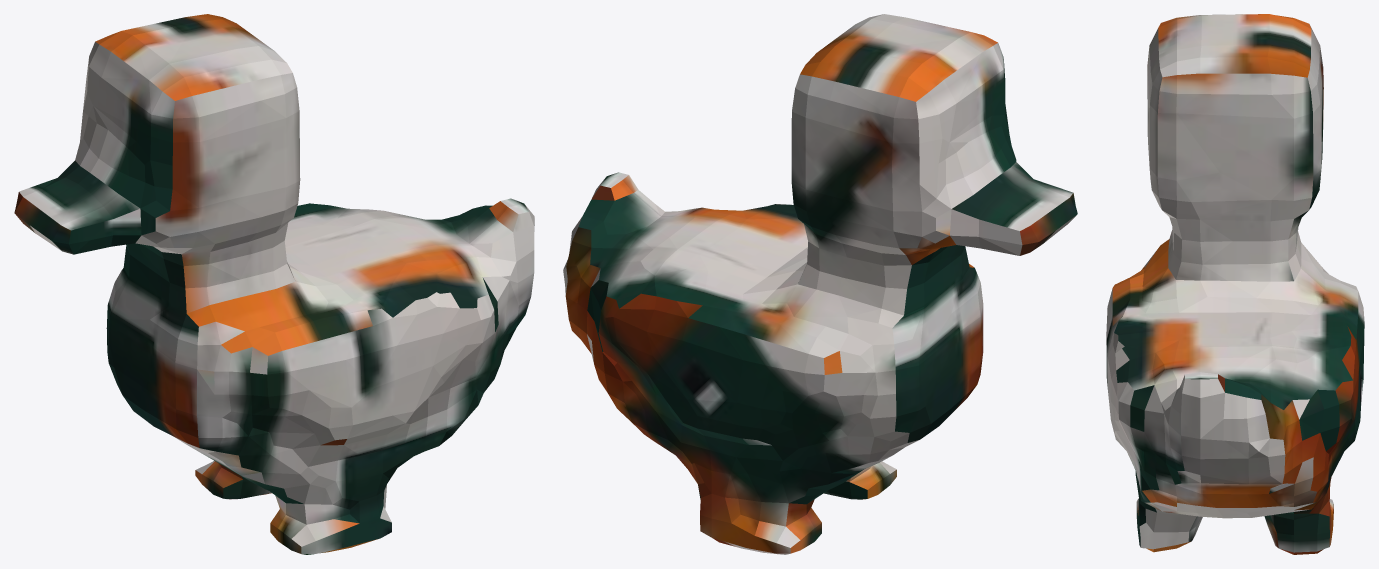
File: duck.glb
The picture shows the model from 3 angles, left to right: view 1: azimuth 30°, elevation 25°; view 2: azimuth 150°, elevation 25°; view 3: azimuth 270°, elevation 25°; orthographic projection. The views are drawn at different scales.
Visible parts, largest first — view 1: material.001; view 2: material.001; view 3: material.001.
Part boxes in pixels (bbox=[...]): material.001: bbox=[14, 14, 534, 554]; material.001: bbox=[563, 14, 1077, 554]; material.001: bbox=[1106, 14, 1364, 554].
Size of the model in its own units: 0.9924 by 0.9894 by 0.5012.
1 material, 1 textured.
